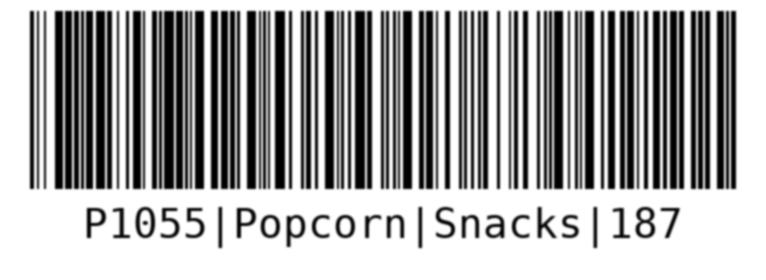milk: (23, 4, 744, 255)
